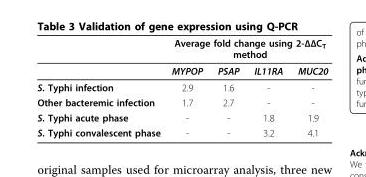table: (36, 36, 327, 138)
table column: (36, 36, 165, 138), (165, 36, 209, 138), (245, 36, 289, 138), (289, 36, 327, 138), (209, 36, 245, 138)
table column header: (36, 36, 327, 78)
table row: (36, 36, 327, 62), (36, 62, 327, 78), (36, 78, 327, 94), (36, 94, 327, 109), (36, 109, 327, 124), (36, 124, 327, 138)
table spanning cell: (165, 36, 327, 62)
